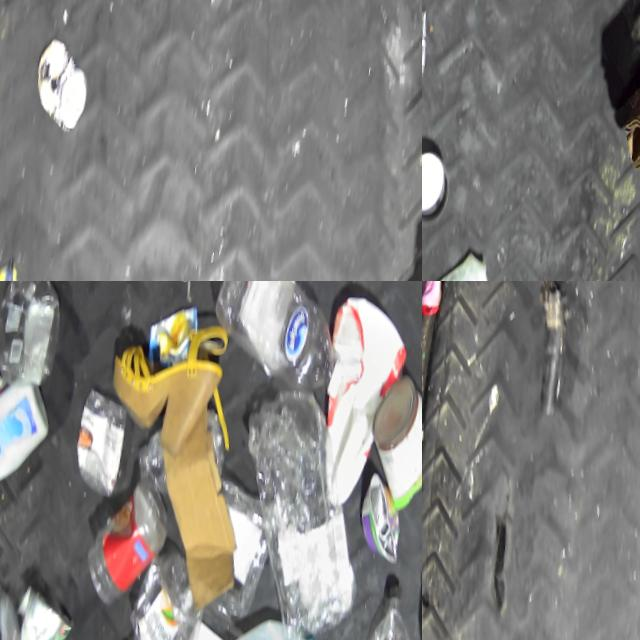can: (354, 364, 422, 514), (26, 30, 94, 135), (347, 467, 405, 562), (422, 144, 447, 224)
milk_jug: (304, 288, 419, 518), (176, 604, 323, 640), (422, 242, 495, 281)
plastic_bottle: (198, 281, 355, 401), (97, 538, 209, 640), (126, 394, 228, 499), (332, 572, 422, 640)
